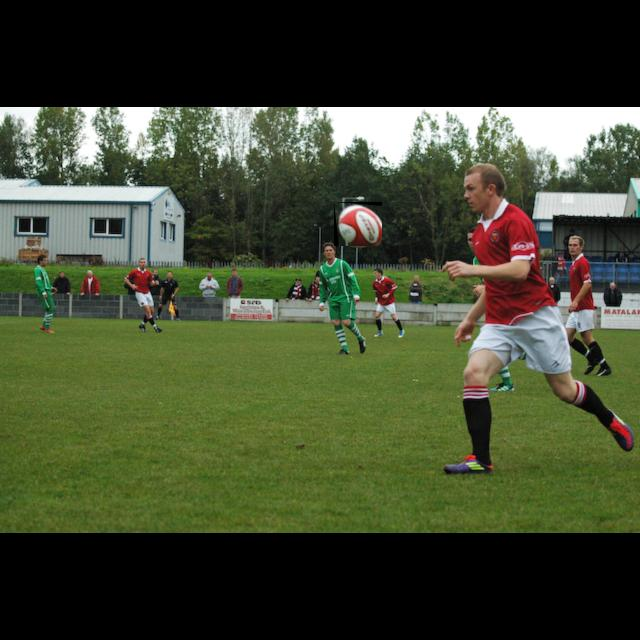Football: (334, 202, 382, 246)
